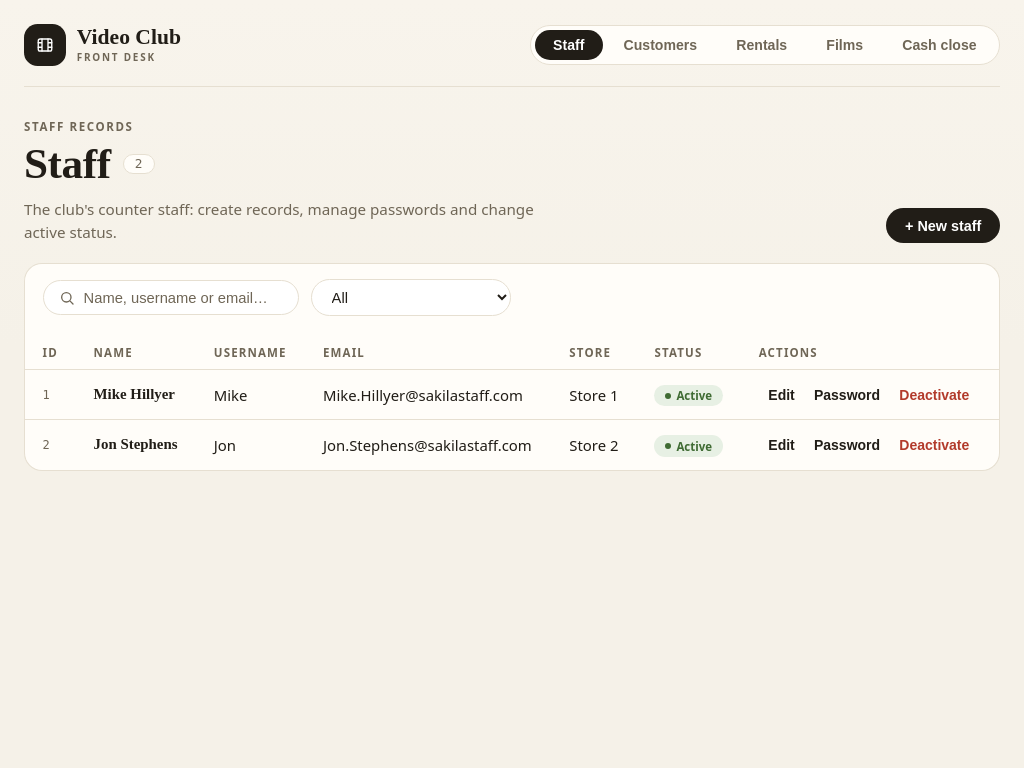
Scenario: App mutations › edits a staff member through the service
The width and height of the screenshot is (1024, 768).
Expected: the text "Mike Hillyer" is shown, x1=76 y1=369 x2=196 y2=420
Click the button "Edit" in the row of "Mike Hillyer": (782, 395) x1=760 y1=383 x2=803 y2=406
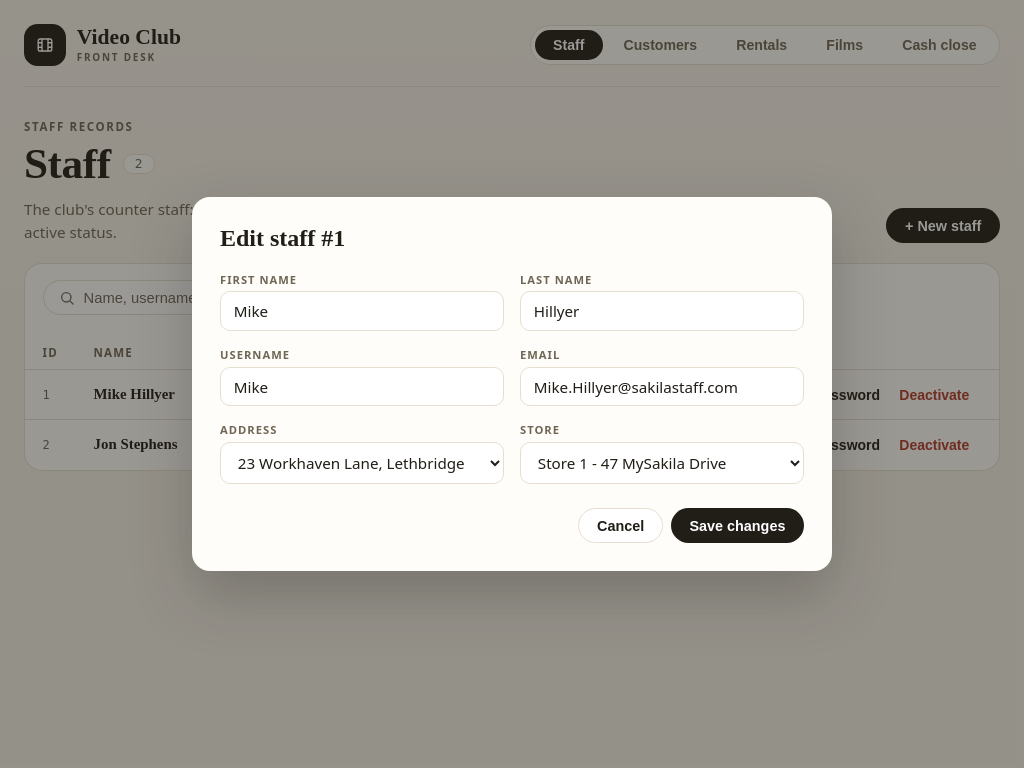
Replace the text in the field labelled "First name" with "Jonathan": (362, 311) x1=220 y1=291 x2=504 y2=331
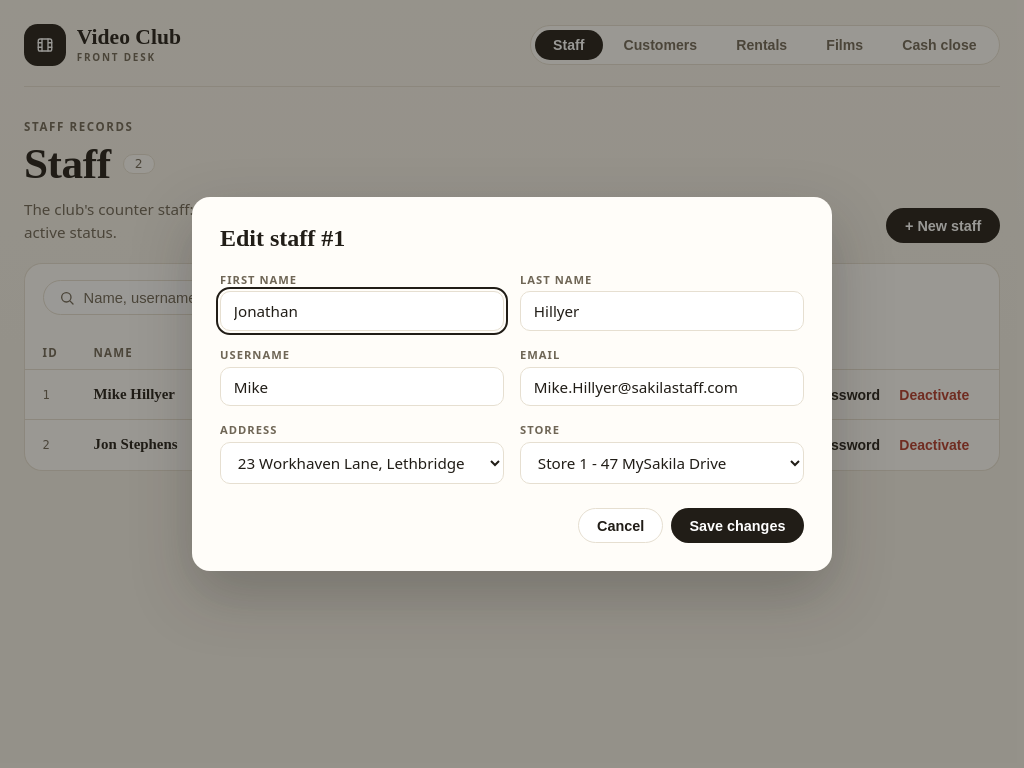
Click the button "Save changes": (737, 526) x1=671 y1=508 x2=804 y2=543
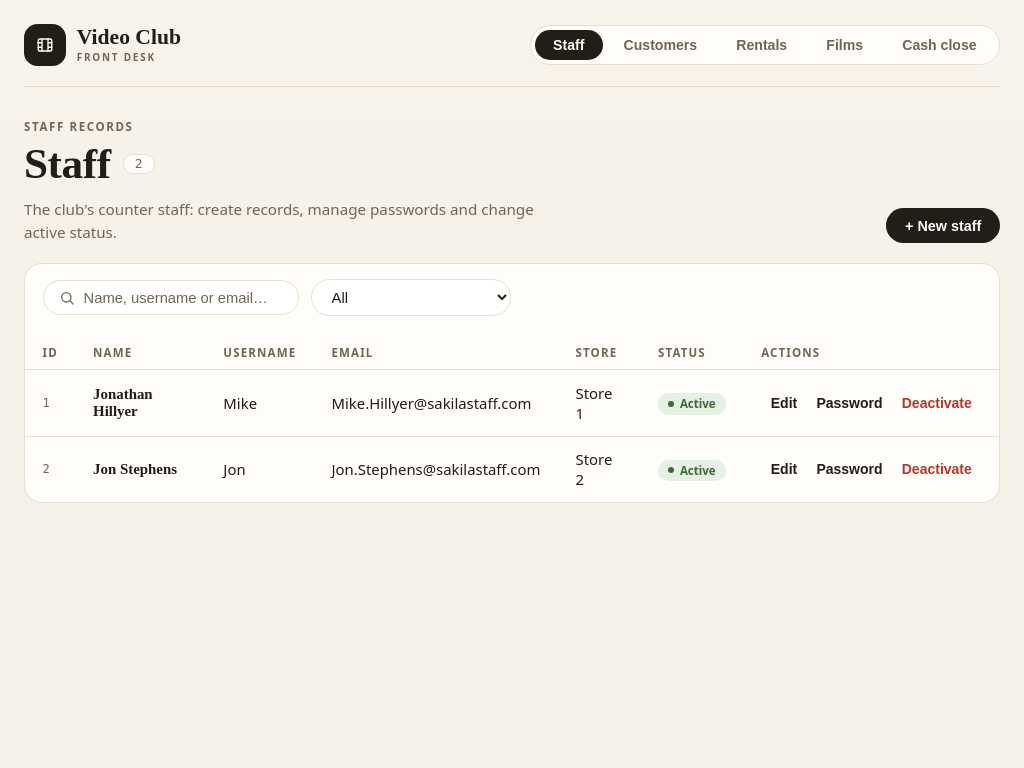
Now the text "Jonathan Hillyer" is shown, box x1=76 y1=369 x2=206 y2=436
